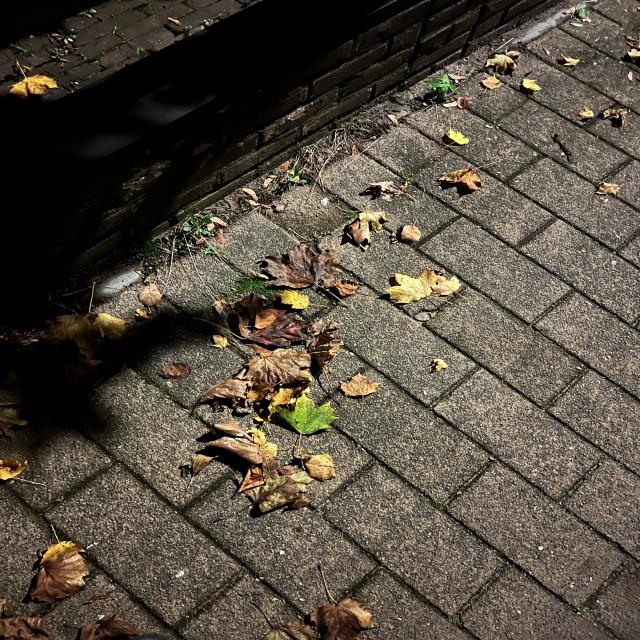leaves: (194, 346, 374, 429), (244, 244, 362, 352), (184, 426, 331, 509), (22, 529, 105, 604), (302, 580, 381, 640), (343, 206, 436, 252), (378, 270, 466, 318), (488, 50, 536, 94), (4, 68, 64, 101), (435, 162, 485, 197)
weed: (261, 106, 396, 182), (107, 209, 239, 264), (224, 273, 289, 299), (428, 75, 463, 106)
